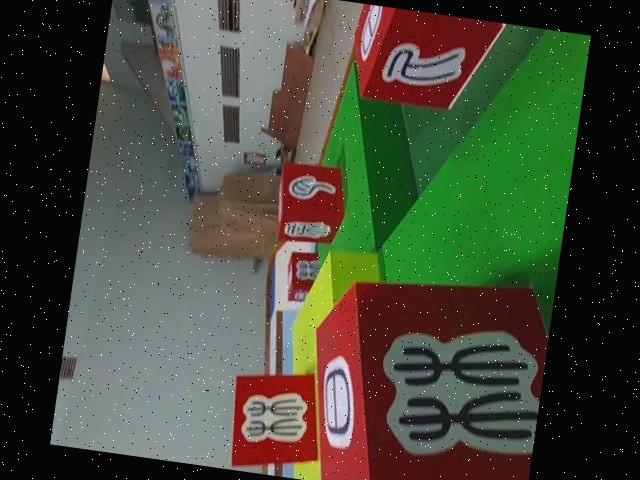R2 Fake: (291, 256, 555, 480), (341, 3, 507, 122), (220, 364, 329, 480), (268, 158, 353, 250), (282, 252, 321, 306)
